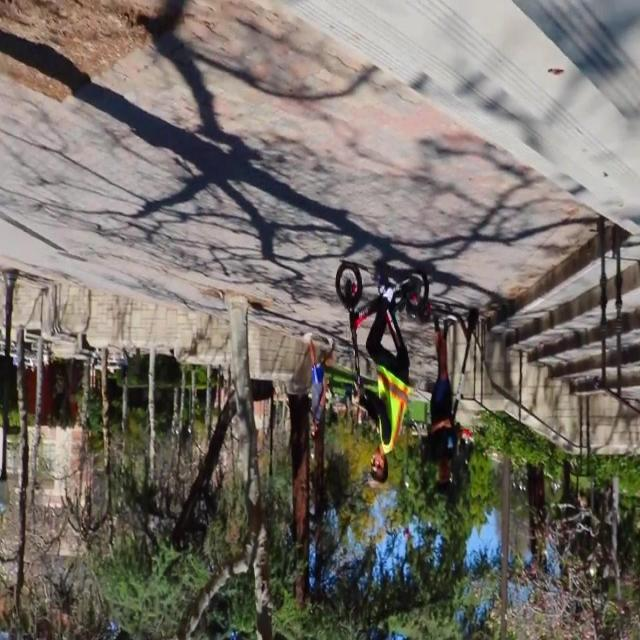jacket: (369, 363, 410, 449)
